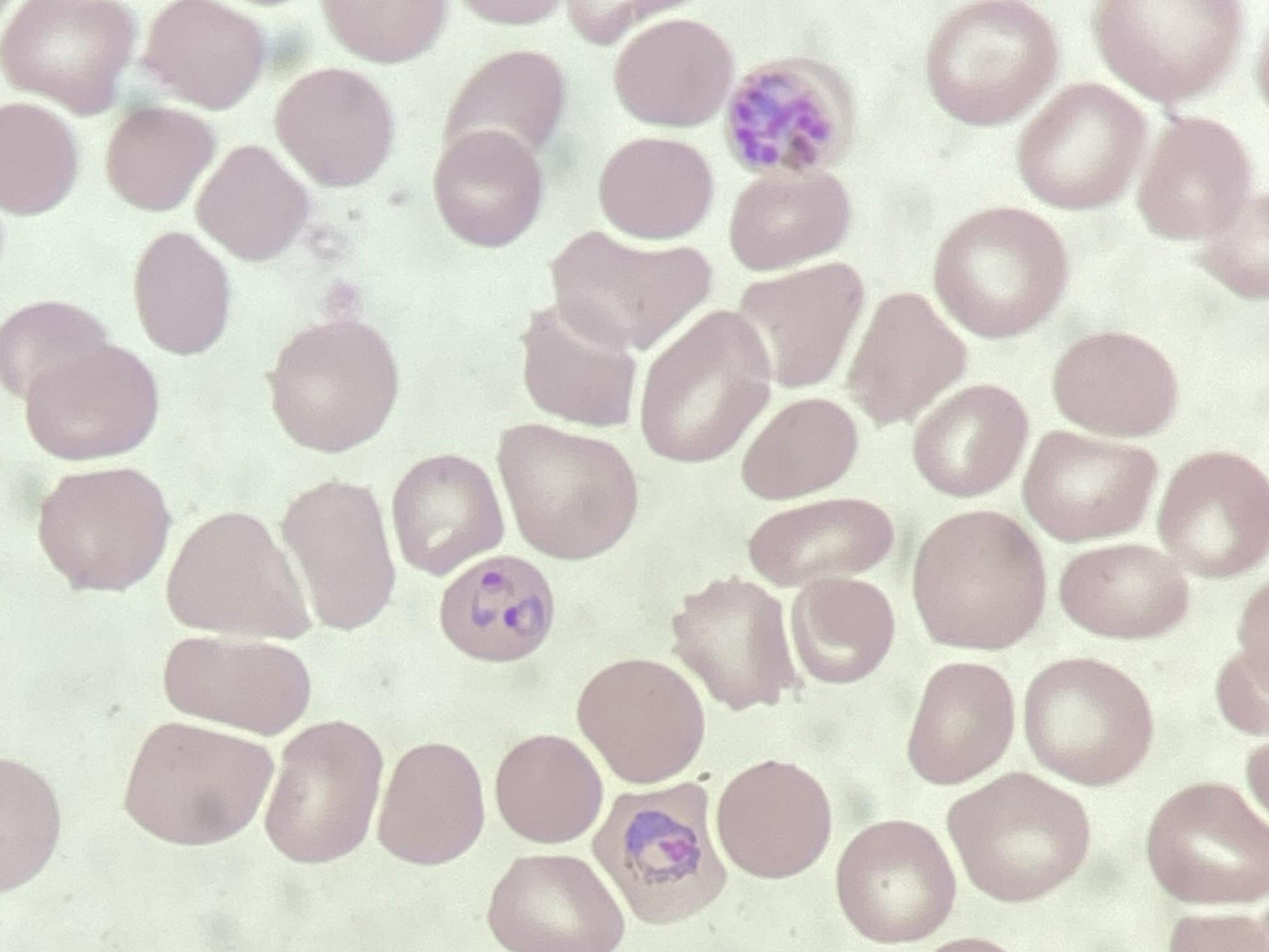Infected: (591, 782, 726, 923), (726, 58, 849, 173), (440, 553, 554, 663)
Uninfected: (641, 308, 776, 463), (550, 233, 708, 357), (495, 425, 636, 560), (165, 514, 312, 643), (126, 724, 276, 849), (911, 513, 1043, 649), (278, 483, 397, 630), (670, 576, 800, 708), (947, 775, 1082, 900), (35, 469, 170, 593), (24, 341, 160, 464), (263, 723, 382, 862), (735, 262, 863, 391), (267, 323, 395, 449), (934, 209, 1063, 333), (575, 661, 702, 786), (843, 292, 965, 422), (1024, 660, 1149, 785), (1017, 85, 1143, 208), (1144, 784, 1269, 906), (926, 2, 1055, 120), (162, 635, 308, 738), (1022, 431, 1154, 541), (5, 1, 132, 113), (276, 68, 395, 187), (1155, 452, 1269, 576), (835, 822, 954, 940), (713, 761, 831, 879), (1138, 116, 1251, 239), (391, 455, 505, 576), (1097, 2, 1232, 104), (375, 741, 486, 865), (519, 314, 634, 431), (906, 664, 1016, 786), (142, 3, 266, 111), (195, 145, 309, 262), (749, 496, 889, 591), (433, 128, 545, 244), (1052, 333, 1175, 438), (910, 384, 1028, 493), (612, 20, 733, 126), (445, 52, 567, 156), (486, 857, 619, 952), (740, 397, 859, 502), (1058, 545, 1185, 641), (729, 169, 849, 270), (134, 231, 231, 355), (598, 139, 715, 241), (788, 577, 897, 686), (495, 737, 602, 845), (108, 107, 216, 213), (2, 302, 109, 404), (0, 102, 80, 217), (323, 3, 443, 65)
